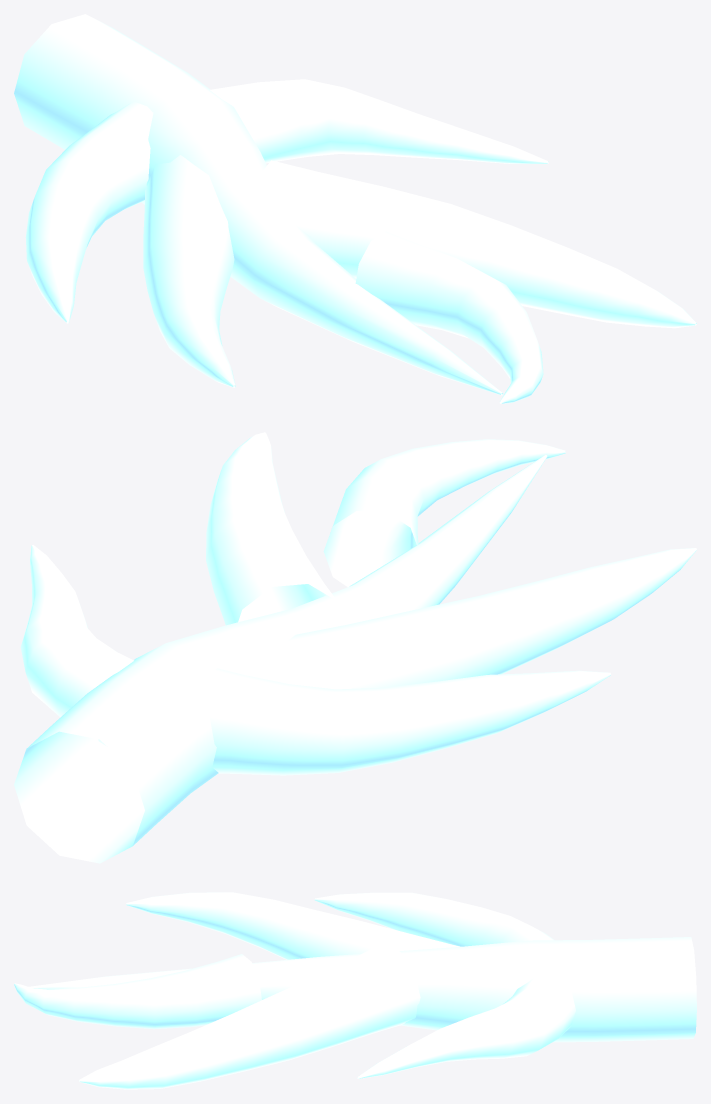
Rendered from CoralOrganicBlue_v07.glb.
3 renders of one model, top to bottom at view 1: azimuth 30°, elevation 25°; view 2: azimuth 150°, elevation 25°; view 3: azimuth 270°, elevation 25°, orthographic. The views are drawn at different scales.
Visible parts, largest first — view 1: CoralOrganicBlue; view 2: CoralOrganicBlue; view 3: CoralOrganicBlue.
Boxes of the visible parts, x1,y1,x2,y2 form: CoralOrganicBlue: (14,14,696,403); CoralOrganicBlue: (14,432,696,863); CoralOrganicBlue: (14,892,696,1089).
Size of the model in its own units: 105 by 22.97 by 159.
